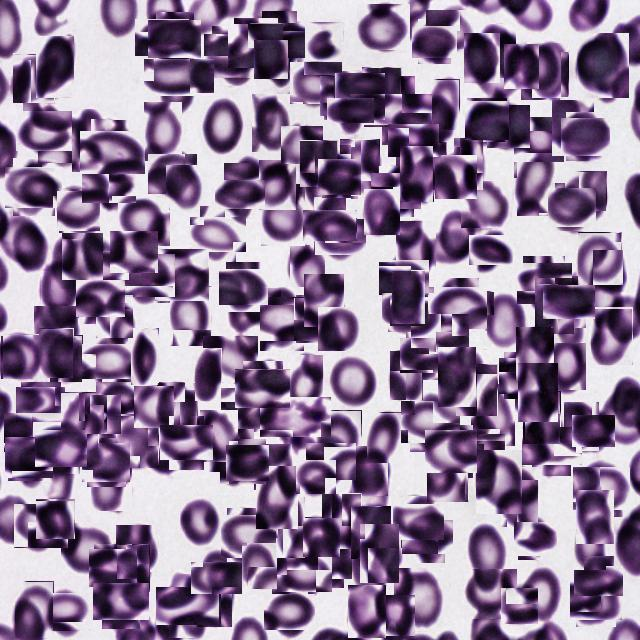red blood cell: (577, 34, 629, 100), (302, 146, 351, 210), (394, 568, 443, 631), (514, 144, 556, 216), (476, 450, 522, 514), (152, 50, 206, 104), (255, 292, 309, 346), (86, 126, 140, 180), (328, 352, 378, 410), (155, 249, 209, 302), (61, 523, 114, 576), (261, 184, 305, 246), (471, 384, 515, 446), (208, 30, 260, 82), (162, 580, 214, 632), (316, 410, 362, 468), (483, 291, 528, 350), (464, 569, 517, 619), (256, 466, 298, 529), (223, 511, 274, 562), (373, 85, 424, 136), (202, 96, 246, 155), (406, 397, 456, 448), (358, 1, 408, 52), (203, 336, 258, 382), (170, 286, 212, 346), (119, 198, 169, 248), (9, 162, 59, 212), (432, 282, 482, 332), (576, 464, 626, 514), (121, 250, 171, 300), (526, 421, 576, 471), (231, 21, 281, 71), (468, 522, 508, 584), (427, 443, 469, 502), (84, 337, 134, 386), (16, 501, 65, 551), (461, 182, 512, 230), (591, 308, 633, 366), (336, 72, 385, 121), (416, 310, 464, 360), (360, 523, 400, 583), (72, 110, 109, 174), (518, 363, 558, 422), (36, 36, 74, 98), (292, 59, 340, 108), (518, 567, 560, 623), (19, 107, 68, 155), (552, 100, 594, 156), (578, 232, 622, 285), (396, 221, 436, 279), (501, 466, 539, 527), (515, 115, 563, 163), (40, 118, 88, 166), (520, 260, 568, 308), (256, 17, 304, 65), (428, 428, 476, 476), (8, 408, 56, 456), (238, 364, 286, 412), (340, 139, 380, 196), (535, 277, 575, 334), (438, 347, 476, 407), (116, 415, 159, 468), (572, 577, 620, 624), (402, 142, 447, 192), (144, 102, 182, 161), (322, 493, 362, 549), (15, 581, 54, 638), (252, 94, 290, 152), (61, 392, 99, 450), (34, 306, 78, 356), (456, 364, 498, 416), (157, 382, 198, 435), (41, 260, 78, 318), (565, 171, 607, 222), (304, 274, 344, 327), (351, 506, 391, 559), (228, 158, 274, 204), (195, 211, 241, 257), (18, 384, 64, 430), (41, 590, 87, 636), (139, 14, 185, 60), (214, 432, 260, 478), (282, 551, 328, 597), (295, 296, 341, 342), (152, 16, 198, 62), (98, 578, 144, 624), (6, 434, 52, 480), (477, 24, 516, 78), (180, 497, 222, 547), (13, 54, 55, 104), (532, 42, 569, 98), (86, 163, 132, 208), (111, 230, 157, 275), (441, 208, 479, 262), (576, 490, 614, 544), (516, 327, 554, 381), (150, 151, 195, 196), (222, 386, 268, 430), (38, 426, 84, 470), (164, 420, 208, 466), (62, 232, 104, 280), (523, 391, 561, 444), (348, 585, 386, 638), (91, 462, 132, 511), (200, 410, 238, 462), (116, 525, 158, 572), (288, 354, 324, 408), (400, 145, 434, 202), (318, 214, 362, 258), (304, 540, 348, 584), (268, 590, 312, 634), (322, 74, 366, 118), (309, 439, 353, 483), (428, 7, 472, 51), (550, 185, 594, 229), (564, 114, 608, 158), (84, 440, 128, 484), (397, 500, 441, 544), (546, 280, 590, 324), (362, 68, 402, 116), (521, 51, 560, 100), (13, 221, 51, 271), (374, 170, 418, 213), (382, 256, 426, 299), (402, 334, 446, 377), (79, 277, 122, 321), (546, 343, 586, 390), (276, 496, 306, 558), (259, 160, 296, 210), (99, 378, 142, 421), (487, 105, 530, 148), (318, 307, 360, 351), (435, 155, 477, 199), (222, 266, 266, 308), (1, 334, 42, 379), (572, 516, 606, 570), (392, 270, 426, 324), (406, 516, 449, 558), (308, 204, 351, 246), (92, 547, 134, 590), (195, 557, 238, 599), (564, 401, 600, 451), (352, 446, 388, 496), (464, 33, 500, 83), (300, 140, 338, 187), (367, 412, 402, 463), (58, 190, 100, 232), (81, 244, 123, 286), (466, 99, 508, 141), (392, 120, 434, 162), (502, 354, 544, 396), (290, 245, 325, 295), (39, 328, 74, 378), (254, 444, 292, 490), (51, 236, 83, 289), (420, 96, 456, 143), (242, 542, 278, 589), (134, 386, 174, 428), (375, 596, 415, 638), (96, 294, 134, 338), (364, 189, 400, 235), (390, 350, 423, 400), (320, 157, 360, 197), (220, 174, 260, 214), (579, 561, 619, 601), (385, 289, 425, 329), (228, 442, 268, 482), (281, 126, 323, 164), (131, 328, 159, 385), (454, 137, 484, 190), (117, 544, 150, 592), (504, 44, 539, 89), (304, 22, 344, 61), (36, 500, 75, 540), (50, 335, 83, 382), (196, 584, 232, 627), (430, 79, 460, 130), (516, 519, 555, 558), (415, 22, 454, 61), (303, 517, 341, 557), (166, 165, 202, 207), (464, 431, 502, 470), (85, 394, 122, 434), (230, 285, 260, 334), (472, 232, 510, 270), (296, 458, 334, 496), (195, 348, 222, 401), (592, 250, 626, 292), (574, 412, 612, 449), (254, 39, 289, 79), (242, 285, 279, 322), (501, 587, 538, 624), (332, 92, 368, 128)
ring: (268, 390, 324, 446)
